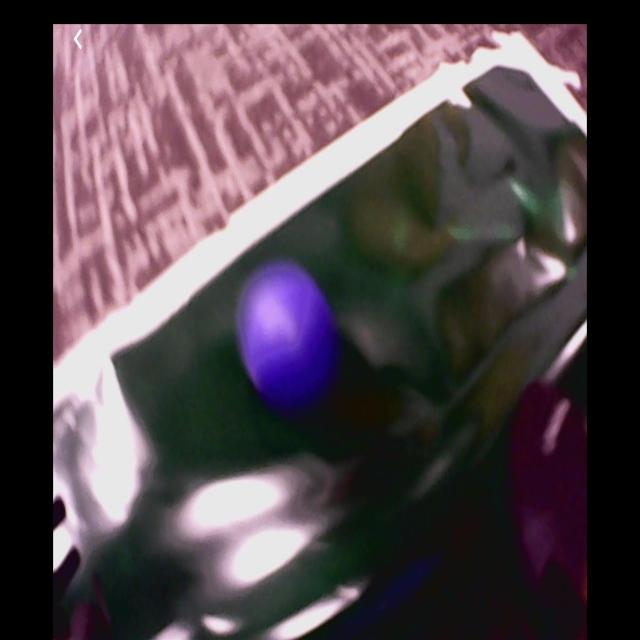ball: (240, 267, 334, 399)
